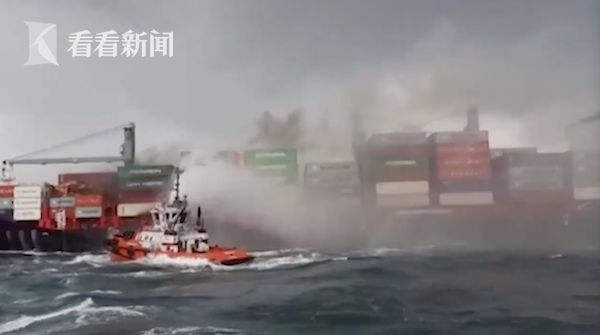otherboat: (98, 194, 255, 268)
